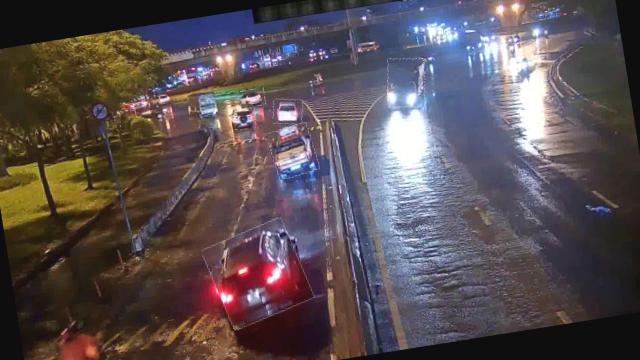Car: (204, 218, 312, 328), (268, 122, 318, 180), (271, 96, 305, 126), (230, 106, 257, 130), (237, 86, 266, 108)
Truck: (382, 54, 430, 110), (188, 88, 221, 118)
